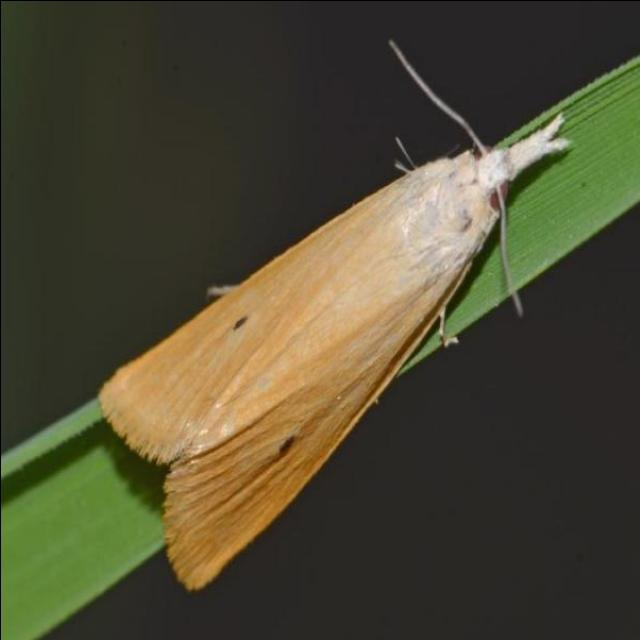stem borer: (99, 43, 566, 588)
